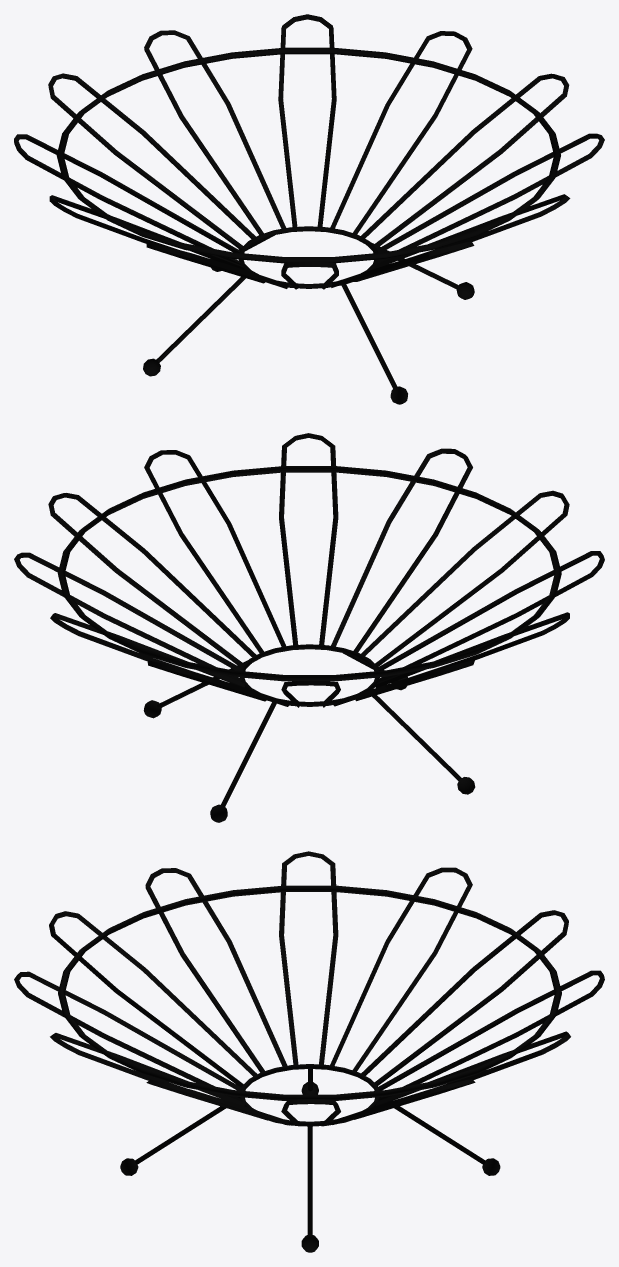
File: Kitchen_FruitBasket.FBX
The picture shows the model from 3 angles, top to bottom: view 1: azimuth 30°, elevation 25°; view 2: azimuth 150°, elevation 25°; view 3: azimuth 270°, elevation 25°; orthographic projection.
Parts seen in each view (by area): view 1: Kitchen_Basket; view 2: Kitchen_Basket; view 3: Kitchen_Basket.
Boxes of the visible parts, box(x1,y1,x2,y2) form: Kitchen_Basket: box(14, 14, 604, 404); Kitchen_Basket: box(14, 433, 604, 822); Kitchen_Basket: box(14, 851, 604, 1252).
Bounding box in the file's own units: 0.4982 × 0.1853 × 0.4984.
